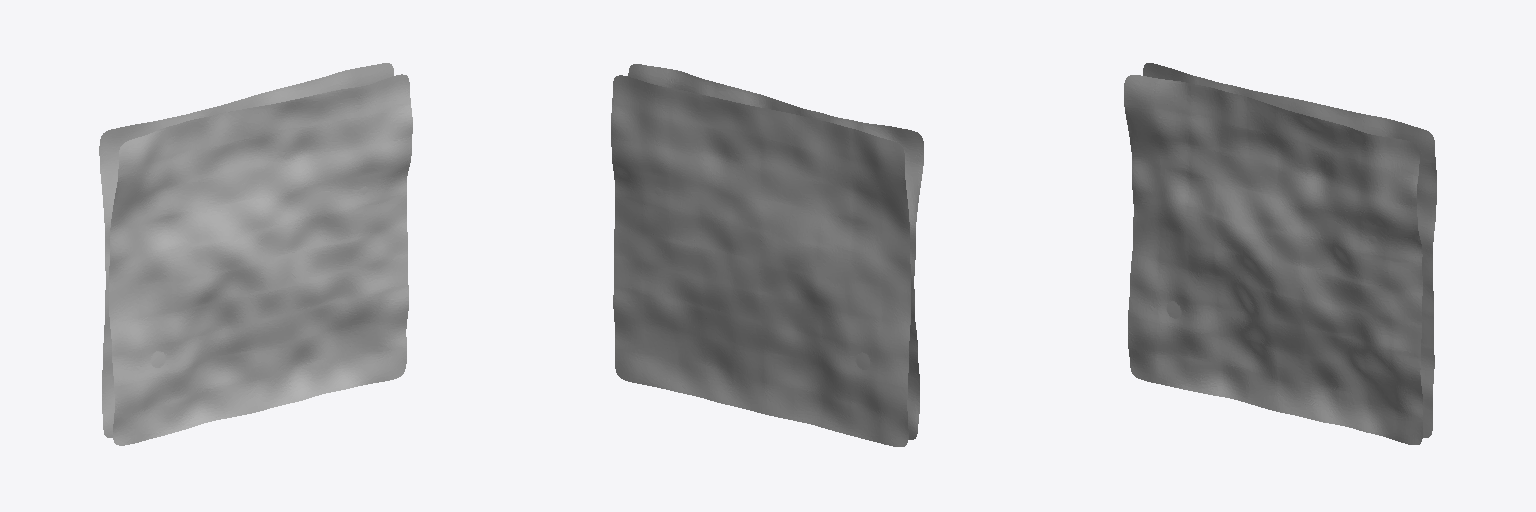
File: slab40k.obj
The picture shows the model from 3 angles: view 1: azimuth 30°, elevation 25°; view 2: azimuth 150°, elevation 25°; view 3: azimuth 330°, elevation 25°; orthographic projection.
Parts seen in each view (by area): view 1: plane_1_Mesh1; view 2: plane_1_Mesh1; view 3: plane_1_Mesh1.
Boxes of the visible parts, x1,y1,x2,y2 form: plane_1_Mesh1: [99, 63, 412, 445]; plane_1_Mesh1: [611, 64, 923, 446]; plane_1_Mesh1: [1124, 63, 1436, 444].
Size of the model in its own units: 2 by 2 by 0.2478.